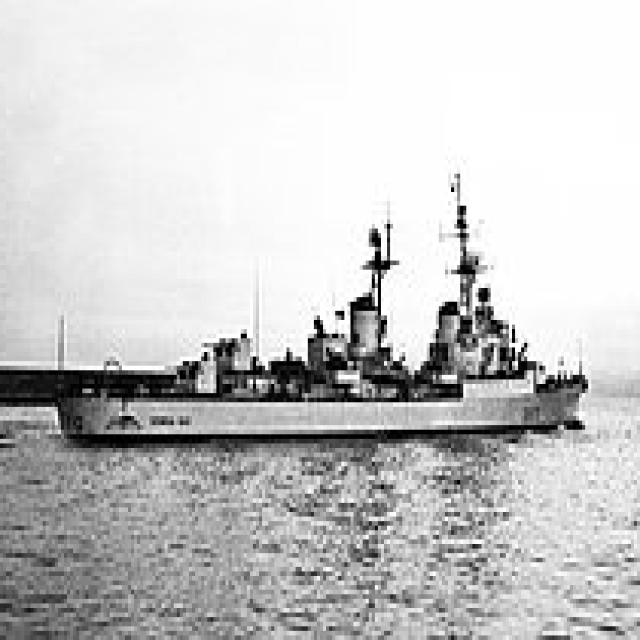Warship: (58, 164, 588, 439)
